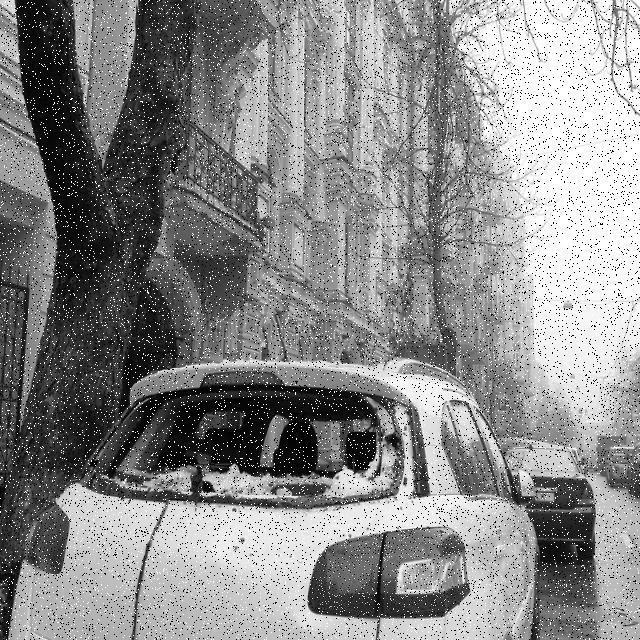Rear-windscreen-Damage: (76, 391, 434, 543)
